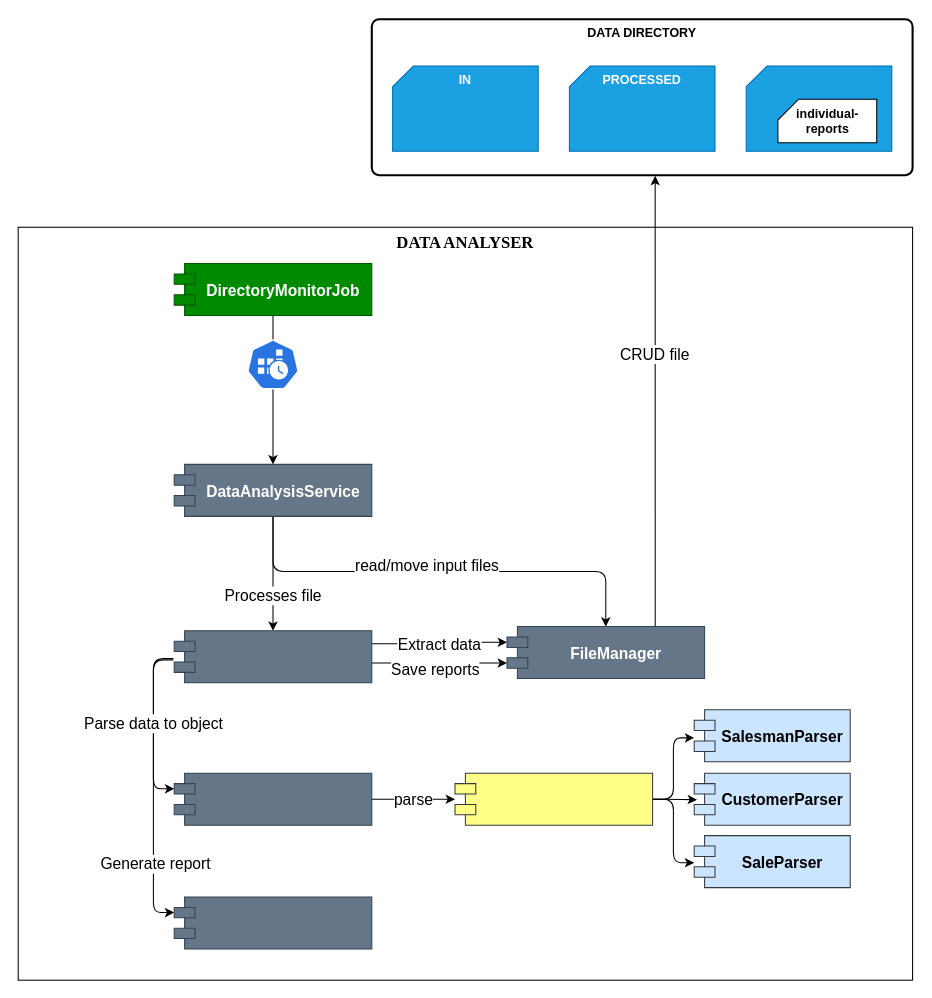
Image size: 932x998. Some labels were removed from this diagram. The shapes that lost their labels are listed below. From the top down, each one's box as (x1, y1, x2, y2) in pixels, then its label:
(745, 65, 892, 151): OUT
(246, 339, 299, 389): Verify and send files to process every 3s
(173, 630, 372, 683): FileProcessorService
(173, 772, 372, 825): FileParser
(454, 772, 653, 825): RowDataParser
(173, 896, 372, 949): ReportService
